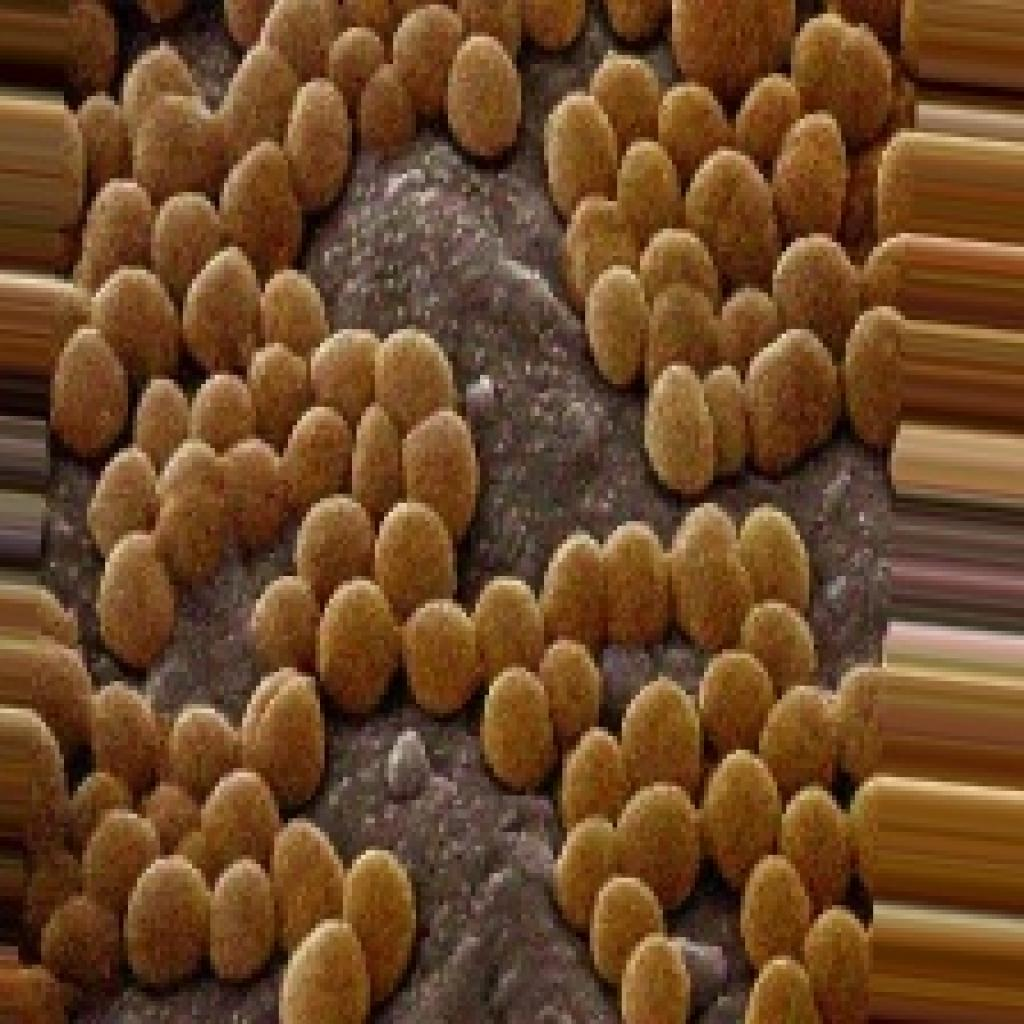Sphericalbacteria: (0, 0, 923, 1019)
